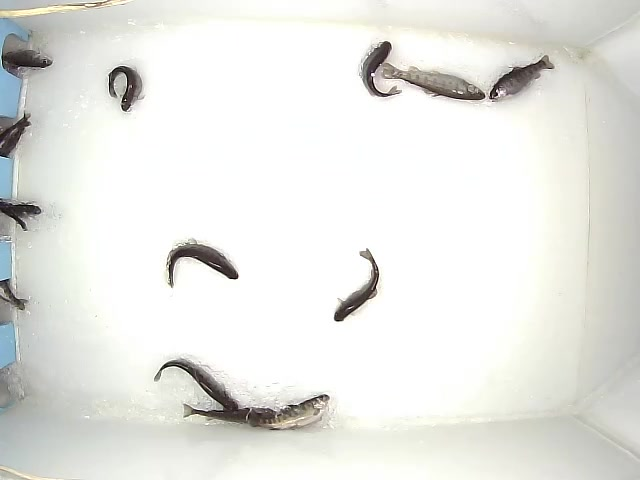fish: (154, 359, 239, 412), (382, 62, 486, 100), (166, 239, 239, 288), (334, 248, 379, 322), (246, 394, 330, 431), (489, 55, 555, 102), (362, 41, 402, 97), (183, 403, 281, 425), (108, 66, 146, 112), (1, 50, 53, 69)
